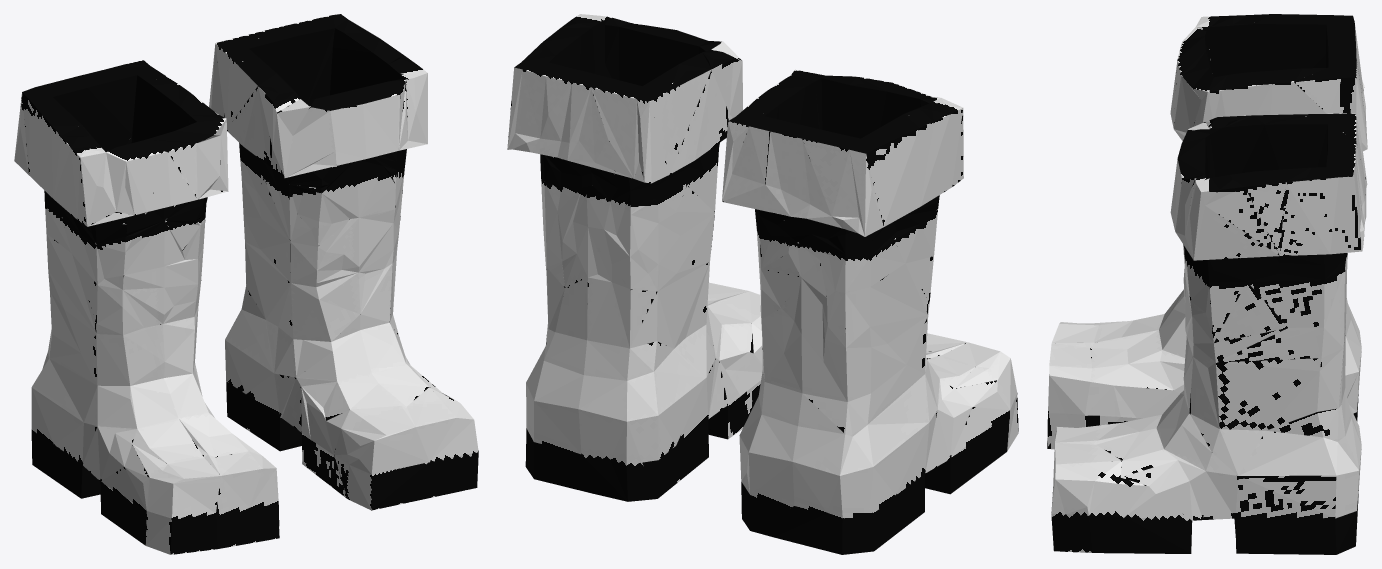
3 renders of one model, left to right at view 1: azimuth 30°, elevation 25°; view 2: azimuth 150°, elevation 25°; view 3: azimuth 270°, elevation 25°, orthographic. The views are drawn at different scales.
Parts seen in each view (by area): view 1: OBJ029; view 2: OBJ029; view 3: OBJ029.
Part boxes in pixels (x1,y1,x2,y2): OBJ029: [14, 14, 478, 554]; OBJ029: [507, 14, 1018, 554]; OBJ029: [1047, 14, 1367, 554].
Size of the model in its own units: 0.2435 by 0.2464 by 0.188.
Materials: 1 (1 with a texture image).
